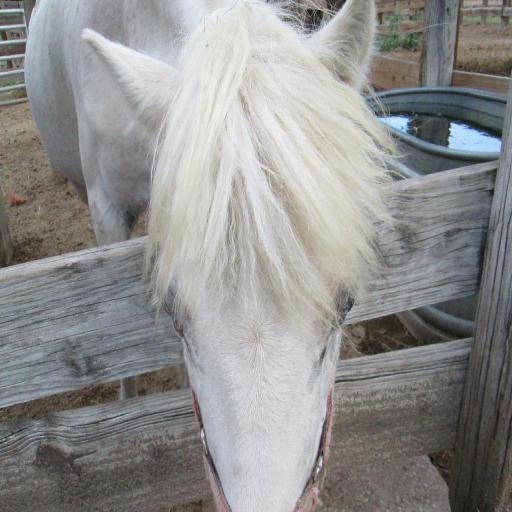horse: (24, 0, 412, 512)
